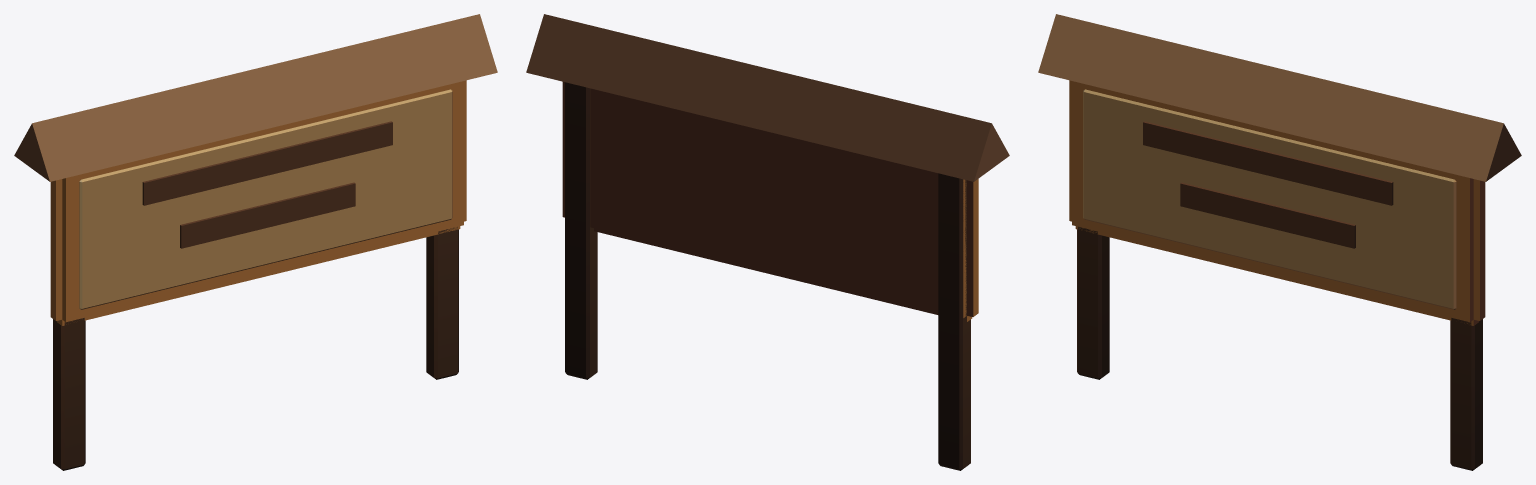
The model's file is town_sign.glb.
3 renders of one model, left to right at view 1: azimuth 30°, elevation 25°; view 2: azimuth 150°, elevation 25°; view 3: azimuth 330°, elevation 25°, orthographic.
Parts seen in each view (by area): view 1: town_sign; view 2: town_sign; view 3: town_sign.
Boxes of the visible parts, <box> form: town_sign: <box>14,14,497,470</box>; town_sign: <box>526,14,1009,470</box>; town_sign: <box>1038,14,1521,470</box>.
Size of the model in its own units: 1.44 by 1.08 by 0.2.
